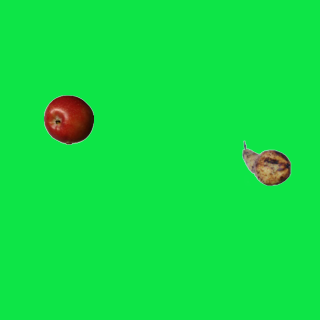Apple Braeburn: (43, 94, 93, 144)
Pear Abate: (241, 138, 291, 188)
